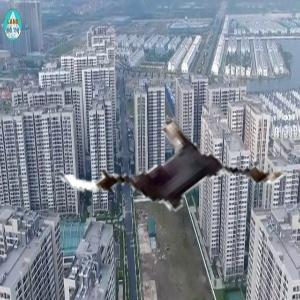drone: (63, 60, 289, 286)
